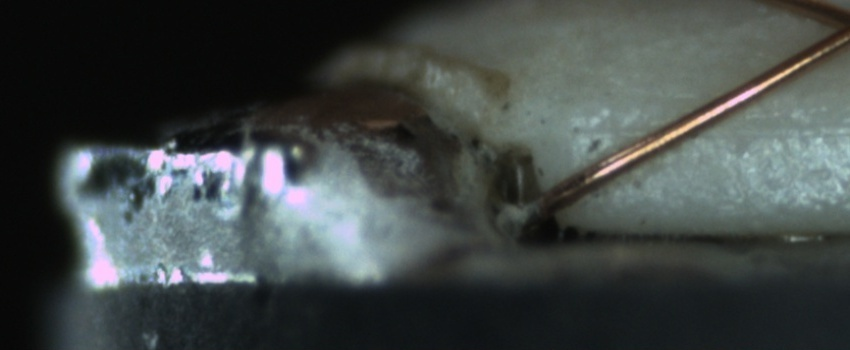DL: (612, 90, 849, 163)
